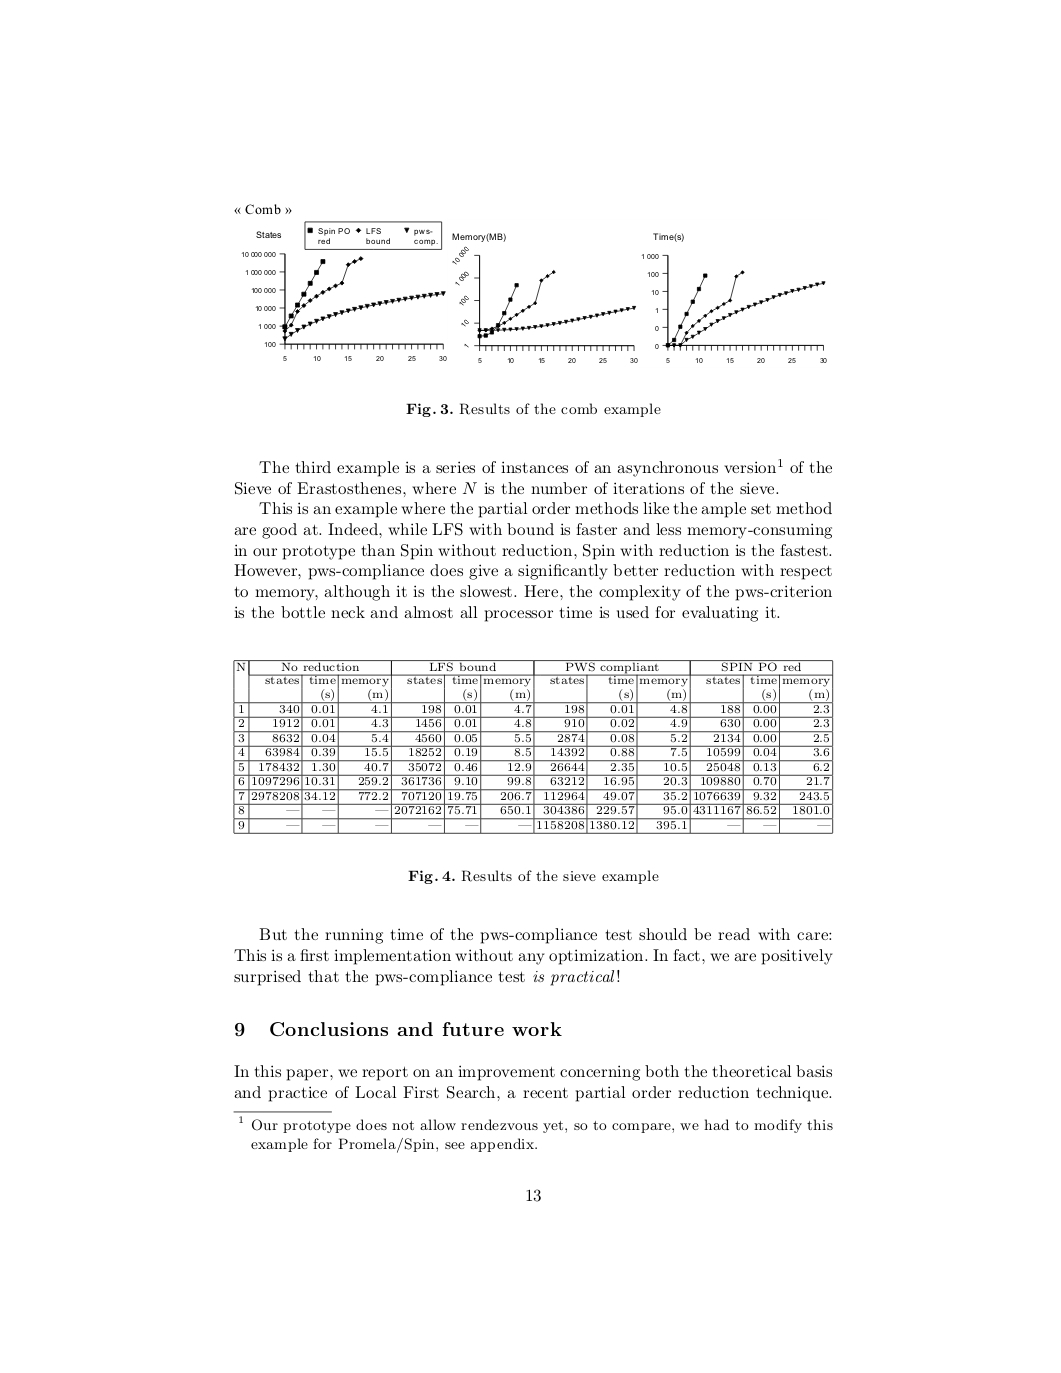Table: (233, 659, 833, 834)
figure: (241, 221, 445, 349), (452, 233, 635, 350), (648, 233, 825, 350)
